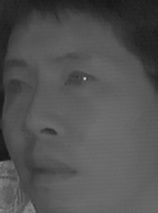eye: (63, 69, 98, 89), (4, 76, 35, 98)
mouth: (19, 148, 79, 188)
